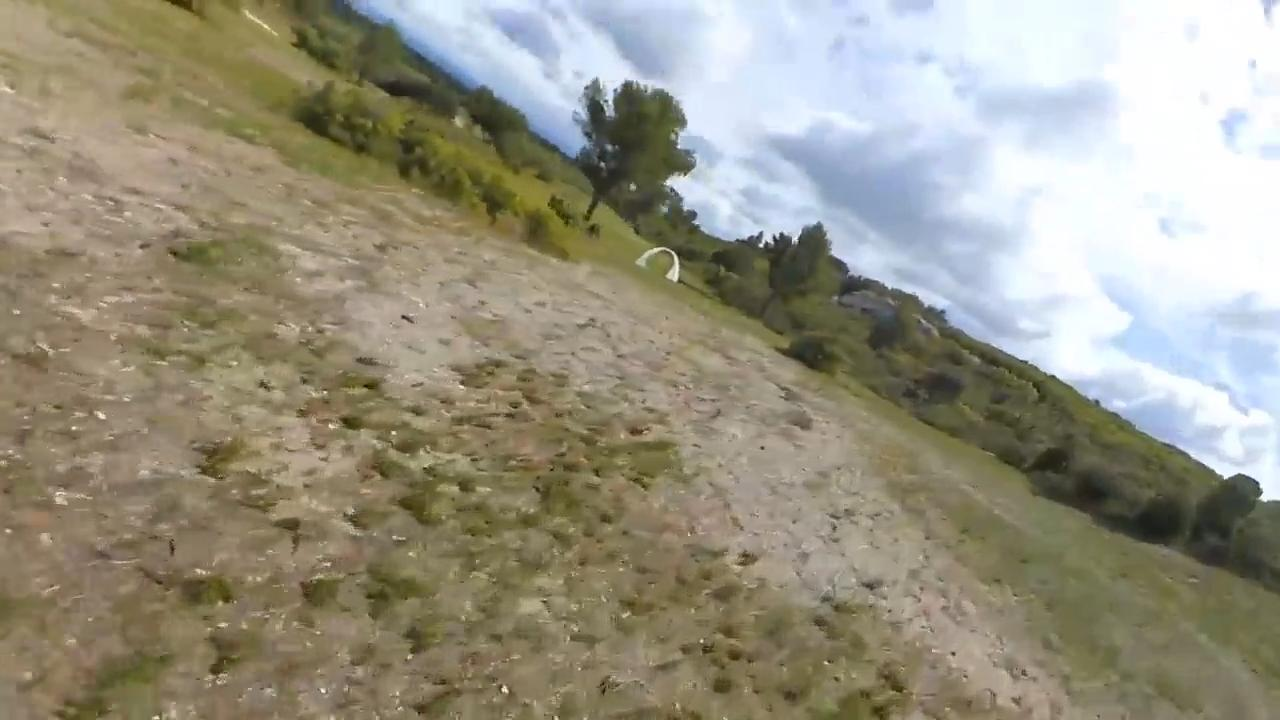gate: (635, 245, 681, 283)
